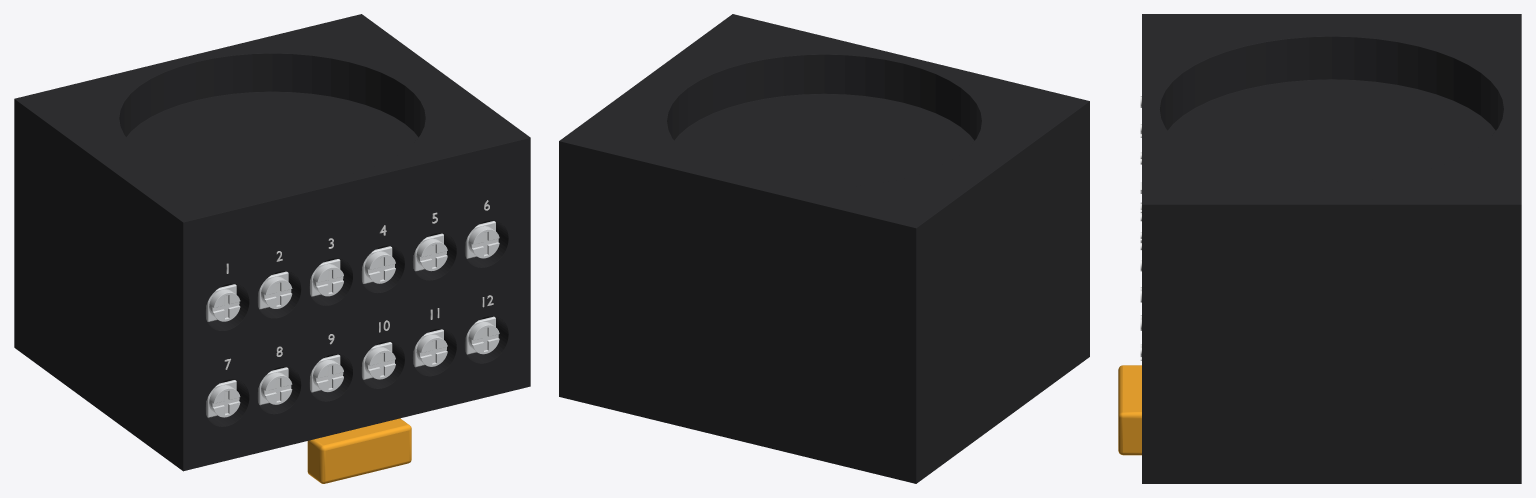
File: socket_11pin.glb
3 renders of one model, left to right at view 1: azimuth 30°, elevation 25°; view 2: azimuth 150°, elevation 25°; view 3: azimuth 270°, elevation 25°, orthographic. The views are drawn at different scales.
Parts seen in each view (by area): view 1: socket; view 2: socket; view 3: socket.
Boxes of the visible parts, x1,y1,x2,y2 form: socket: (14, 14, 530, 483); socket: (559, 14, 1089, 483); socket: (1118, 14, 1521, 483).
Size of the model in its own units: 0.038 by 0.03 by 0.034.
